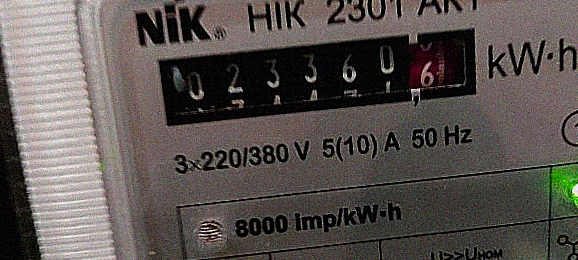0: (181, 65, 207, 102), (372, 40, 398, 77)
2: (220, 59, 245, 96)
3: (259, 54, 283, 91), (298, 49, 319, 85)
6: (335, 48, 359, 84), (414, 55, 436, 89)
screen: (142, 10, 501, 147)
